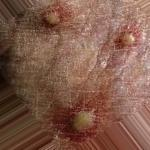Ants: (64, 101, 99, 139), (115, 24, 140, 50), (42, 6, 63, 27)
